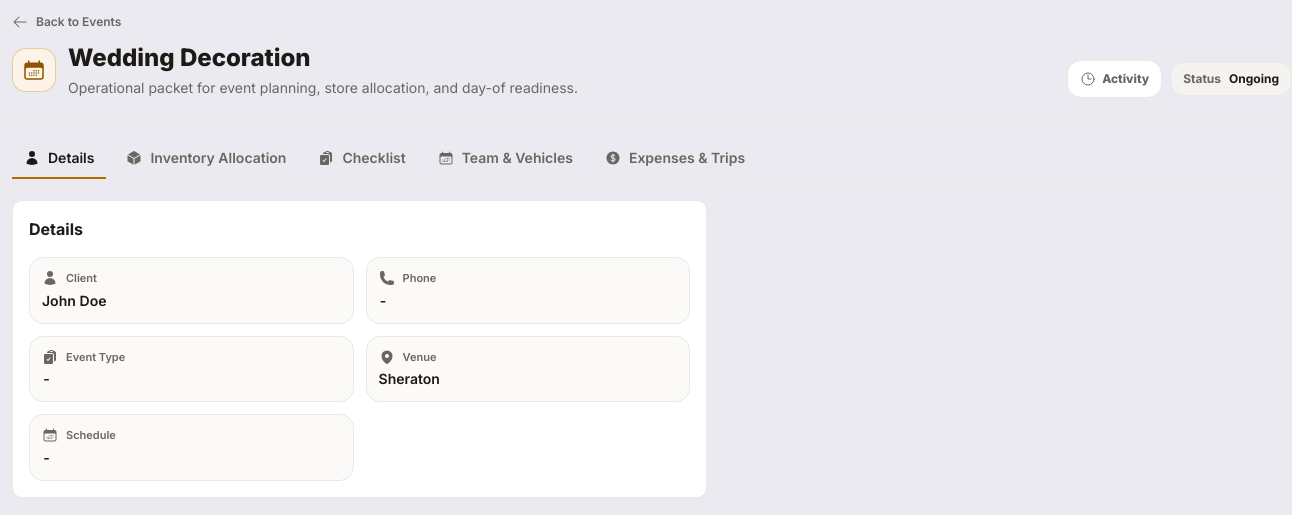
Test: EventWorkspacePage Role-Aware Controls › allocation release guards › offers Release on a reserved allocation
What coordinates should you click on to do the following:
click the button "Inventory Allocation"
I would click on:
 (206, 159)
Its box is x1=114 y1=139 x2=298 y2=179.
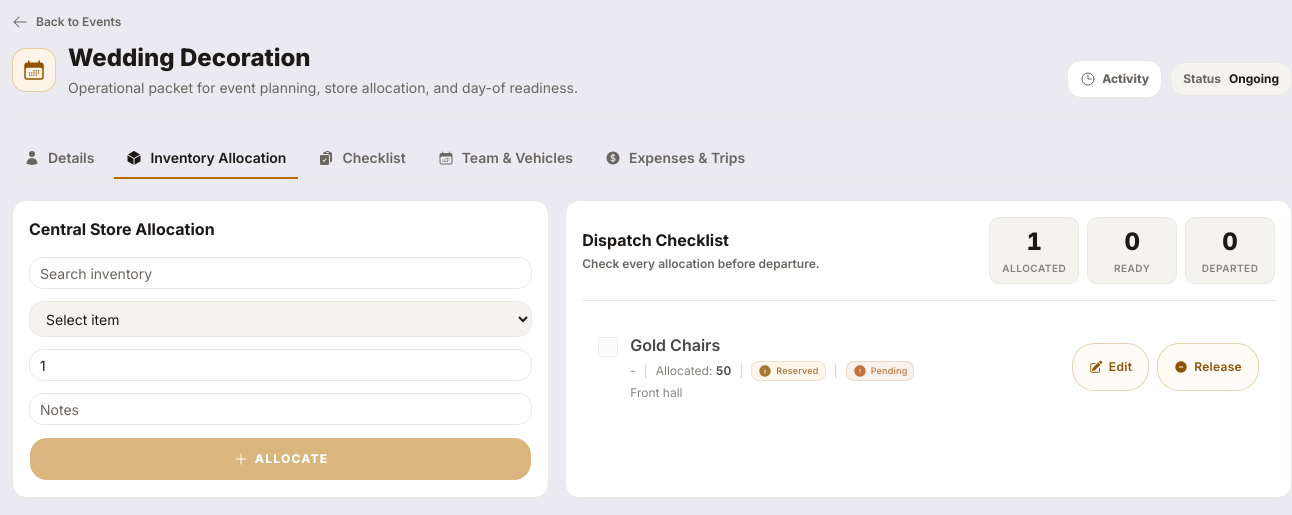
Expected: the button "Release" is enabled, x1=1157 y1=342 x2=1259 y2=390
